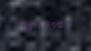eight: (25, 21, 32, 31)
four: (41, 20, 48, 30)
nine: (49, 19, 56, 30), (65, 18, 72, 29)
one: (33, 20, 40, 31)
seven: (17, 21, 24, 32)
zero: (57, 19, 64, 29)
